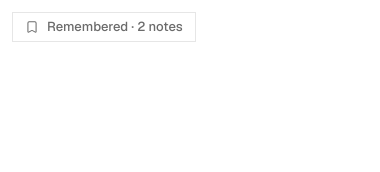
Test case: the notes hint on the live transport › opens a list read from the notes endpoint, and Escape closes it and gives focus back
Later steps or results of the test are not shown.
Click the button "Remembered · 2 notes".
click(104, 27)  # box x1=12 y1=12 x2=196 y2=42
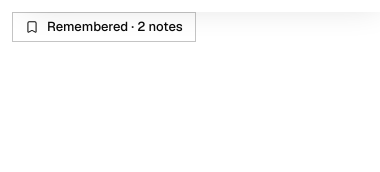
Result: the button "Remembered · 2 notes" is expanded at x1=12 y1=12 x2=196 y2=42
